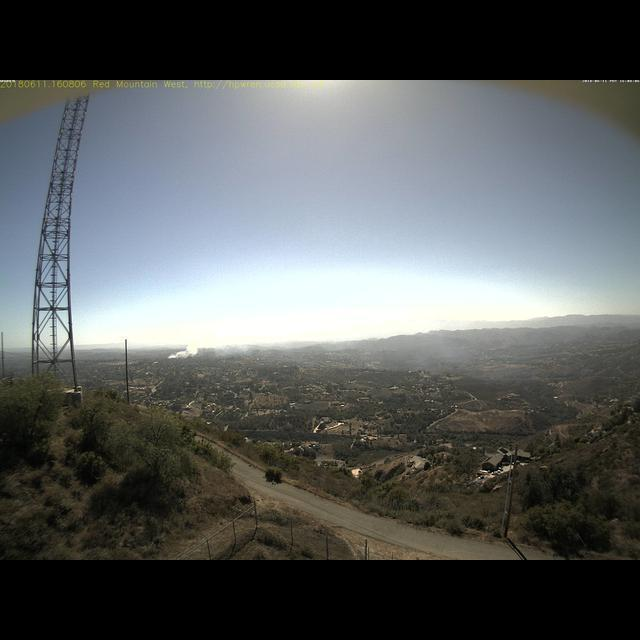Smoke: (164, 335, 218, 361)
